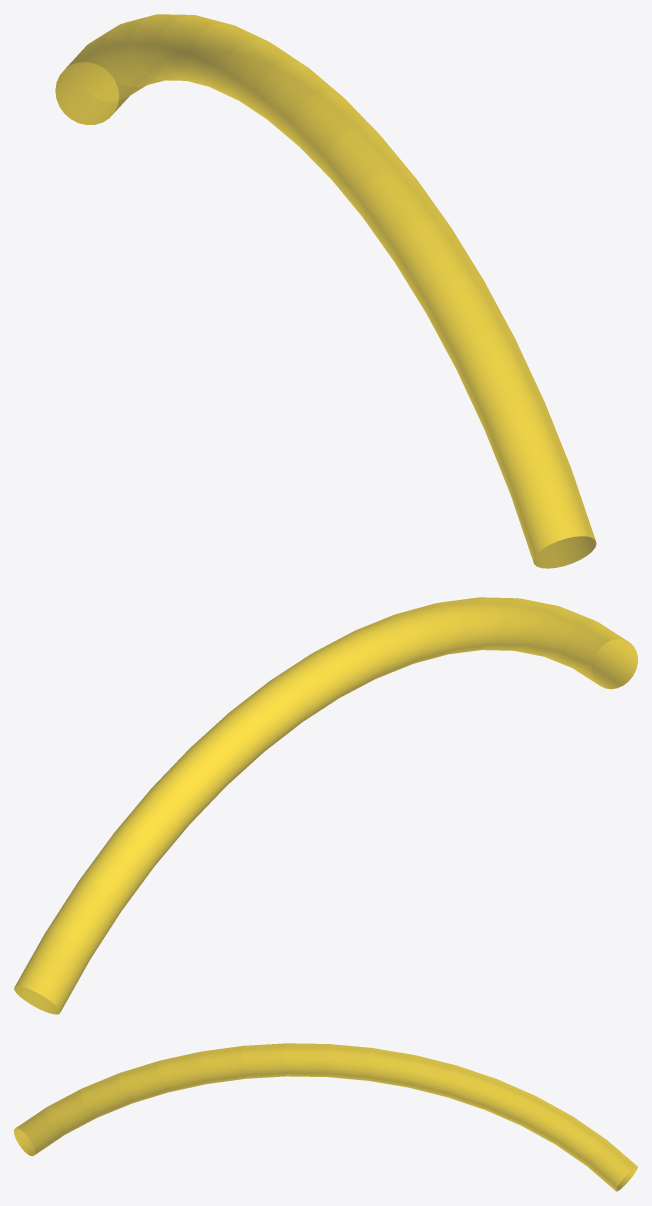
Rendered from Event_419990632_track_74.fbx.
The picture shows the model from 3 angles, top to bottom: view 1: azimuth 30°, elevation 25°; view 2: azimuth 150°, elevation 25°; view 3: azimuth 270°, elevation 25°; orthographic projection. The views are drawn at different scales.
Visible parts, largest first — view 1: Model; view 2: Model; view 3: Model.
Part boxes in pixels (x1,y1,x2,y2): Model: (55,14,596,568); Model: (14,597,637,1014); Model: (14,1043,637,1191).
Size of the model in its own units: 0.1265 by 0.1718 by 0.7522.
